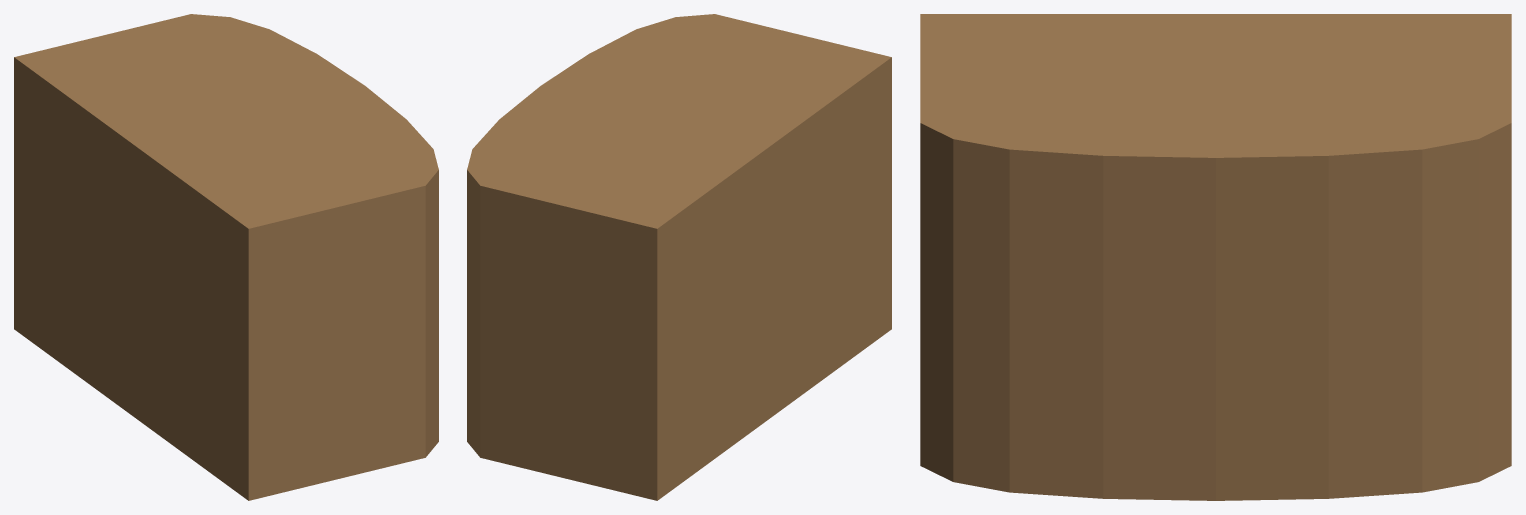
Rendered from Platform_CenterRight.glb.
3 views of the same model, side by side, from view 1: azimuth 30°, elevation 25°; view 2: azimuth 150°, elevation 25°; view 3: azimuth 270°, elevation 25° (orthographic). The views are drawn at different scales.
Visible parts, largest first — view 1: Platform_CenterRight; view 2: Platform_CenterRight; view 3: Platform_CenterRight.
Part boxes in pixels (<box>): Platform_CenterRight: <box>14,14,438,500</box>; Platform_CenterRight: <box>467,14,891,500</box>; Platform_CenterRight: <box>920,14,1511,500</box>.
Size of the model in its own units: 1.8 by 2 by 3.13.
